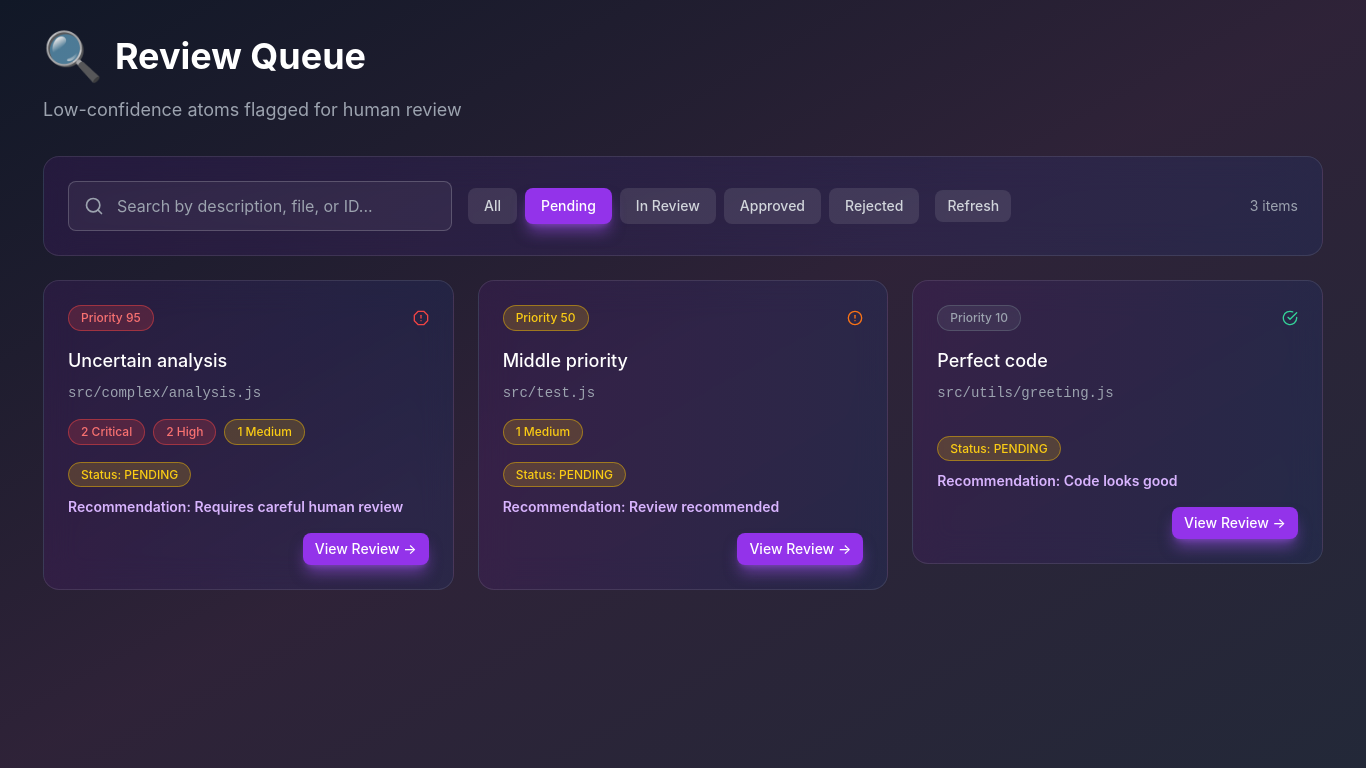
Scenario: ReviewQueue Edge Cases Tests › should close modal on backdrop click
Expected: the heading "Perfect code" is shown, [937,350,1048,371]
// Open modal
Click the button "View Review →" below "Requires careful human review" at {"x": 366, "y": 549}, box [303,533,429,565]
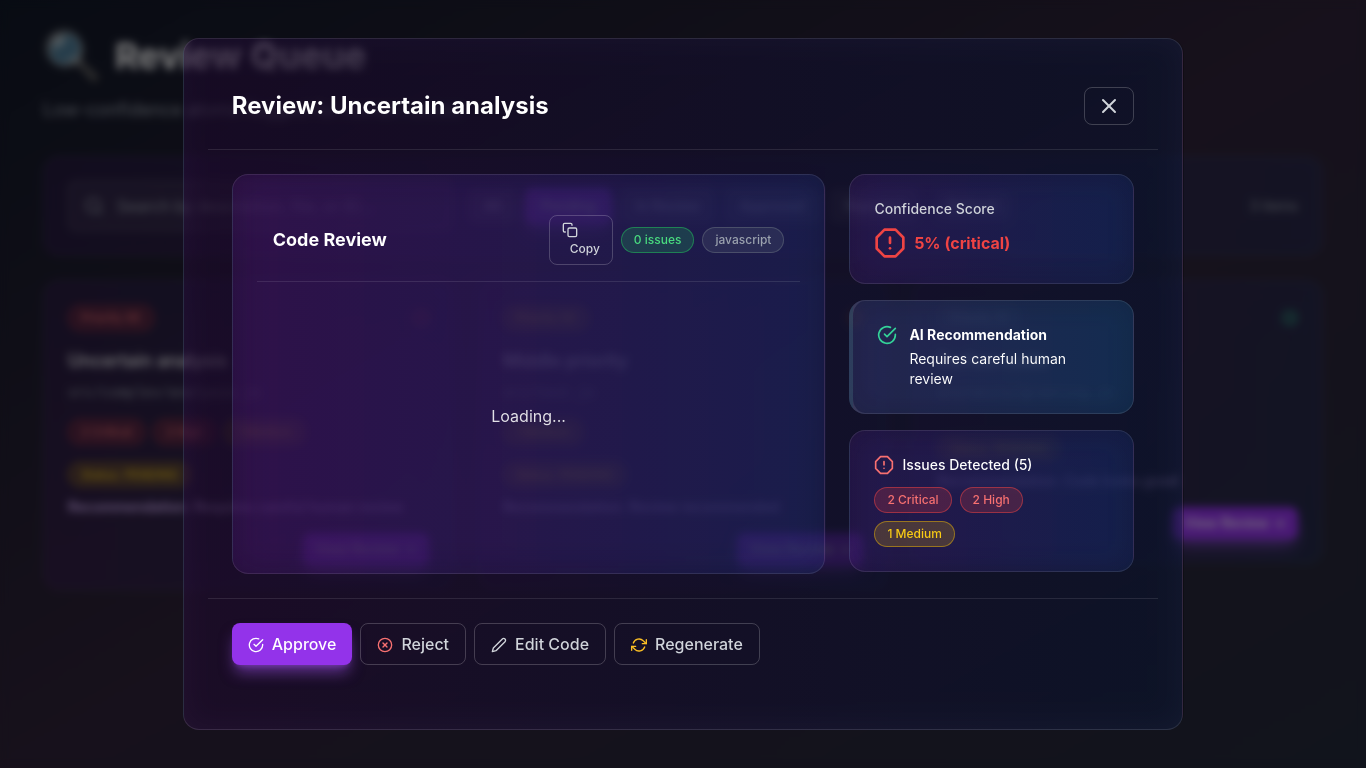
Expected: the heading "Review: Uncertain analysis" is shown, [232,90,549,122]
Click the dialog with class "backdrop-blur-sm" at {"x": 82, "y": 384}, box [0,0,1365,767]
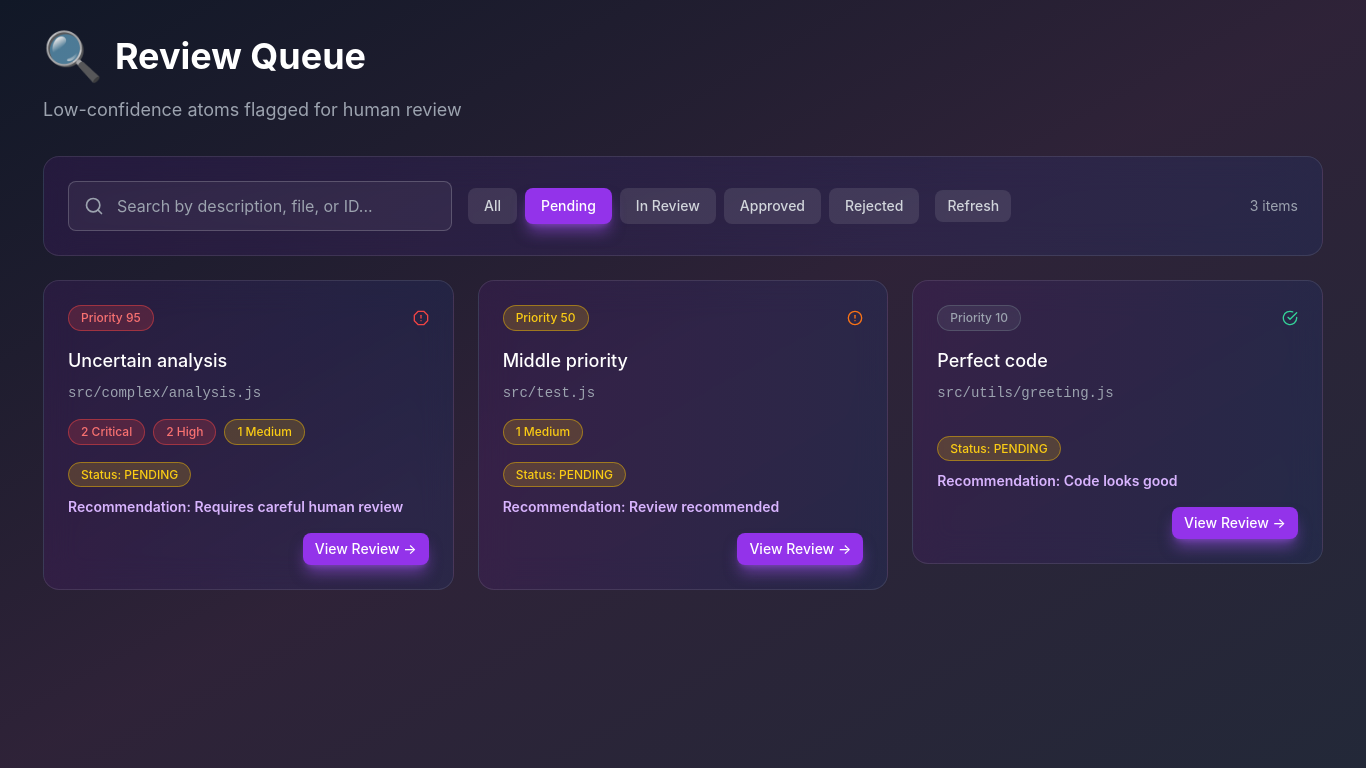
Expected: the heading "Review:" is gone
